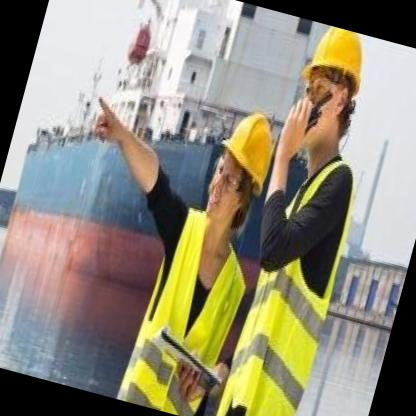helmet: (190, 87, 290, 254), (280, 20, 379, 156)
